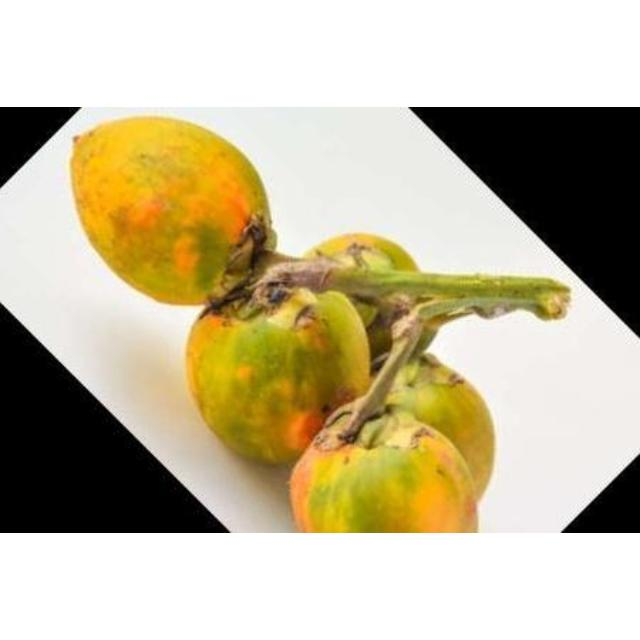good: (185, 258, 404, 468), (70, 117, 273, 308), (309, 357, 496, 532), (289, 417, 486, 532)
